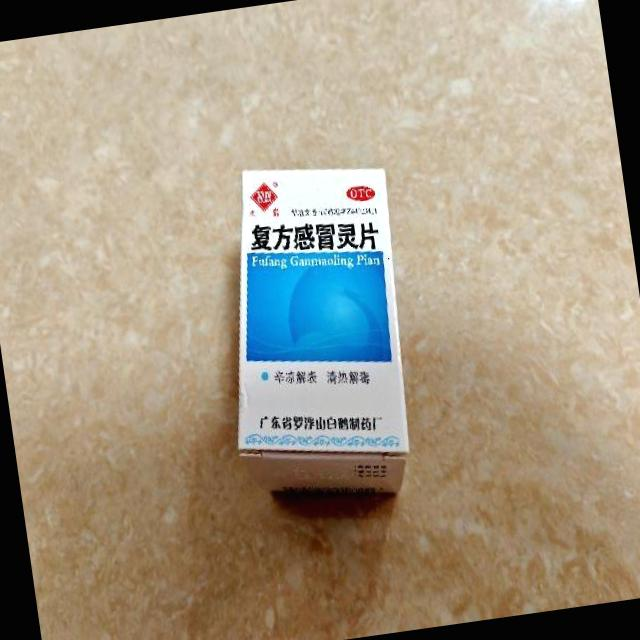box: (199, 150, 430, 514)
